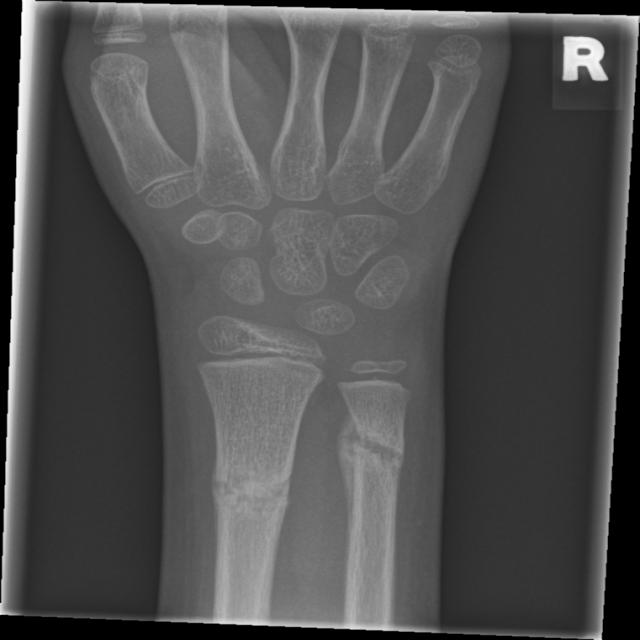radius fracture: (189, 418, 323, 578)
ulna fracture: (331, 386, 414, 536)
